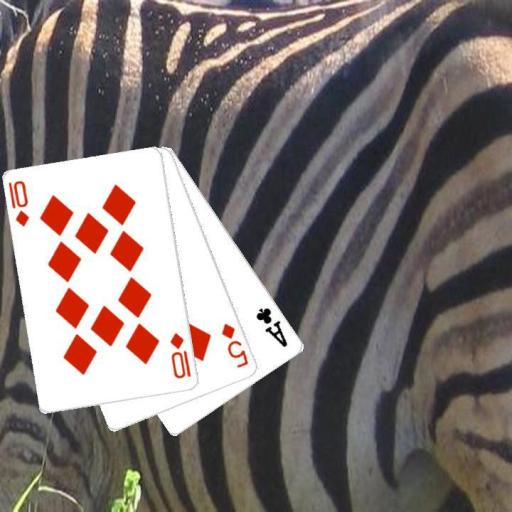10D: (167, 330, 193, 380), (6, 177, 31, 228)
5D: (219, 320, 251, 370)
AC: (253, 305, 290, 350)
